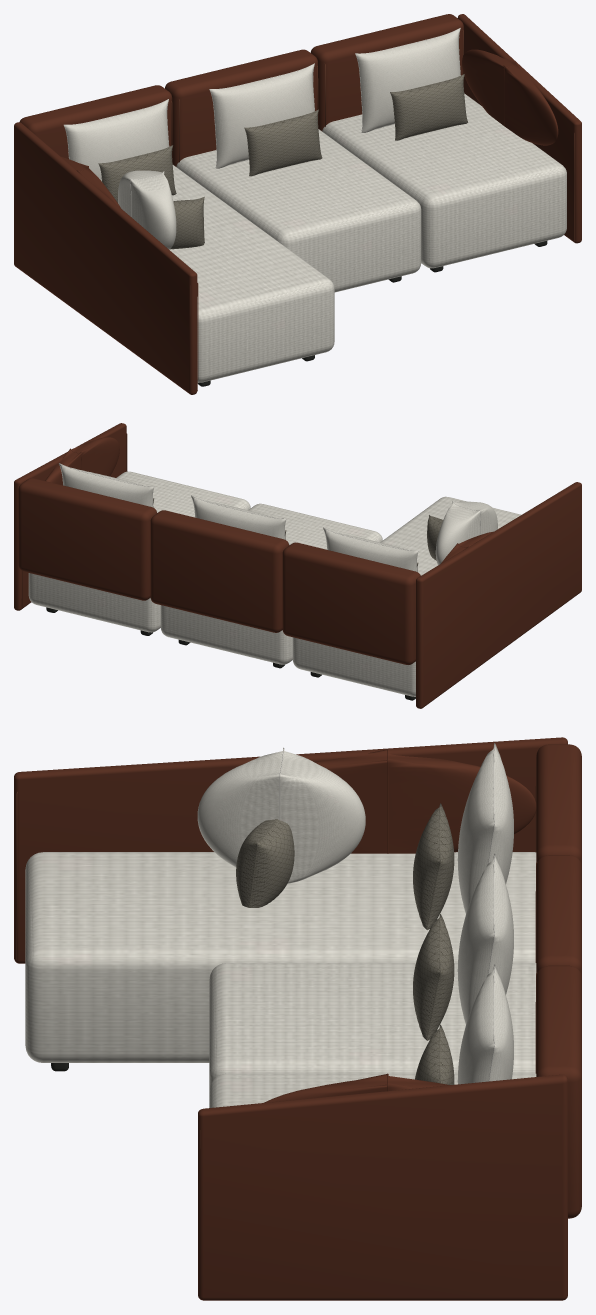
Rendered from nomad-chaise-left.glb.
The picture shows the model from 3 angles, top to bottom: view 1: azimuth 30°, elevation 25°; view 2: azimuth 150°, elevation 25°; view 3: azimuth 270°, elevation 25°; orthographic projection. The views are drawn at different scales.
Parts seen in each view (by area): view 1: Chaise | extra side pillow, Cognac | outer arm, Chaise | accent pillow, Arm | vertical binding, Chaise | extra side pillow | perimeter seam; view 2: Cognac | outer arm, Chaise | extra side pillow, Chaise | accent pillow, Chaise | extra side pillow | perimeter seam; view 3: Cognac | outer arm, Chaise | extra side pillow, Chaise | accent pillow, Arm | vertical binding, Chaise | extra side pillow | perimeter seam.
Part boxes in pixels (x1=…): Chaise | extra side pillow: x1=64, y1=28, x2=566, y2=382; Cognac | outer arm: x1=14, y1=14, x2=581, y2=394; Chaise | accent pillow: x1=98, y1=74, x2=468, y2=249; Arm | vertical binding: x1=171, y1=30, x2=574, y2=390; Chaise | extra side pillow | perimeter seam: x1=63, y1=28, x2=460, y2=216; Cognac | outer arm: x1=14, y1=423, x2=581, y2=708; Chaise | extra side pillow: x1=28, y1=463, x2=521, y2=696; Chaise | accent pillow: x1=153, y1=498, x2=443, y2=571; Chaise | extra side pillow | perimeter seam: x1=59, y1=463, x2=481, y2=571; Cognac | outer arm: x1=14, y1=737, x2=581, y2=1300; Chaise | extra side pillow: x1=25, y1=743, x2=536, y2=1107; Chaise | accent pillow: x1=236, y1=803, x2=454, y2=1084; Arm | vertical binding: x1=16, y1=758, x2=568, y2=1148; Chaise | extra side pillow | perimeter seam: x1=279, y1=743, x2=495, y2=1081.
Size of the model in its own units: 2 by 0.6699 by 1.4.
Materials: 6 (2 with a texture image).
